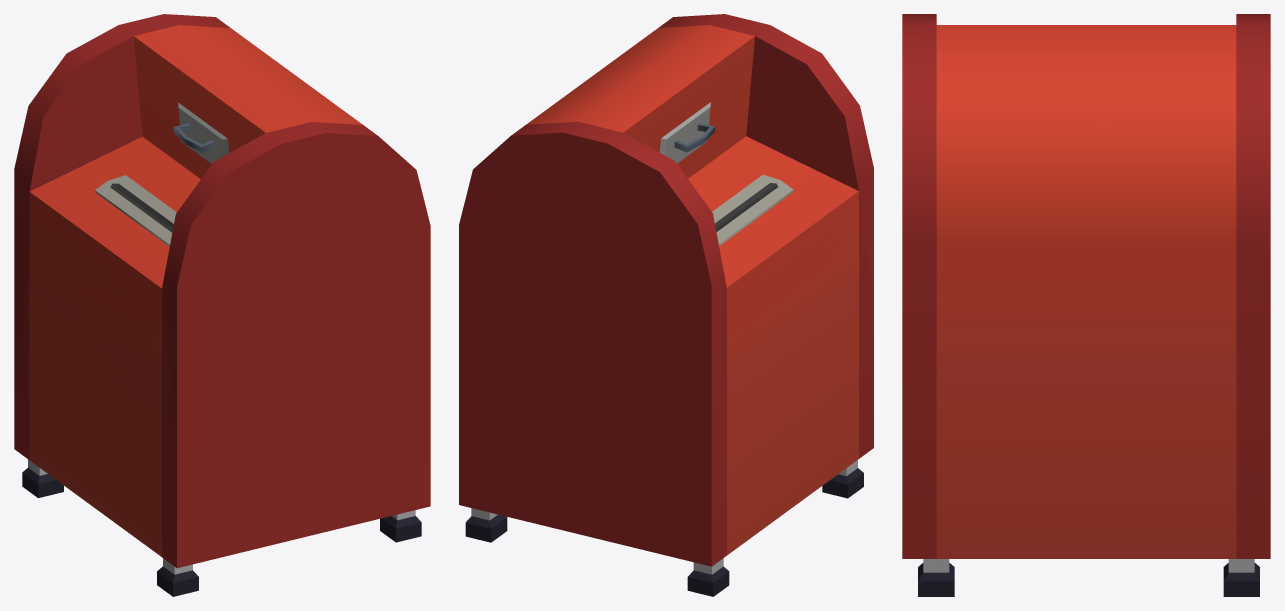
The model's file is PostBox_1_E.fbx.
3 renders of one model, left to right at view 1: azimuth 30°, elevation 25°; view 2: azimuth 150°, elevation 25°; view 3: azimuth 270°, elevation 25°, orthographic. The views are drawn at different scales.
Parts seen in each view (by area): view 1: PostBox_1_E; view 2: PostBox_1_E; view 3: PostBox_1_E.
Boxes of the visible parts, x1=… form: PostBox_1_E: x1=14, y1=14, x2=430, y2=596; PostBox_1_E: x1=459, y1=14, x2=873, y2=596; PostBox_1_E: x1=902, y1=14, x2=1270, y2=596.
Bounding box in the file's own units: 51.21 × 83.66 × 56.89.
